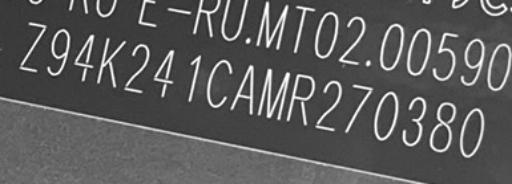letter: (256, 66, 294, 122), (342, 83, 376, 137), (284, 72, 316, 126), (16, 17, 46, 74), (96, 34, 126, 89), (314, 78, 344, 132), (428, 100, 458, 153), (228, 62, 256, 116), (458, 105, 486, 158), (400, 95, 428, 148), (122, 42, 150, 94), (372, 89, 400, 141), (206, 58, 234, 108), (46, 28, 72, 77), (152, 47, 176, 99), (74, 33, 96, 84), (186, 51, 204, 101)
